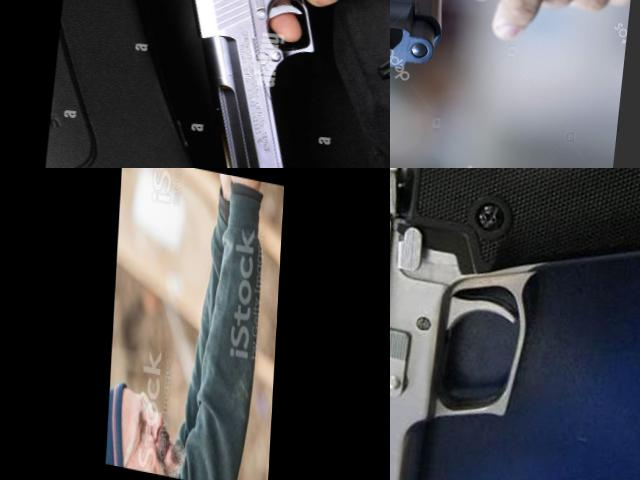handgun: (390, 168, 640, 480), (139, 0, 390, 168), (390, 0, 570, 123), (190, 168, 242, 254)
